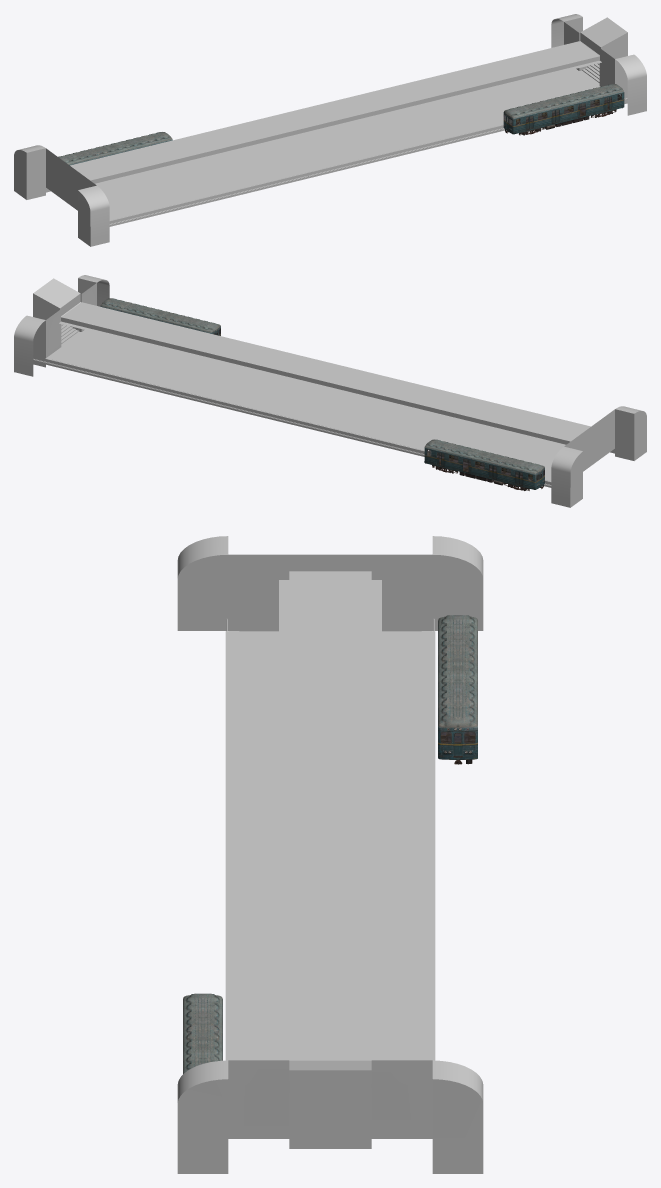
File: pausechamp.fbx
3 views of the same model, one above another, from view 1: azimuth 30°, elevation 25°; view 2: azimuth 150°, elevation 25°; view 3: azimuth 270°, elevation 25° (orthographic). The views are drawn at different scales.
Parts seen in each view (by area): view 1: Платформа, Конечные стены, train_01, train_01.001; view 2: Платформа, Конечные стены, train_01.001, train_01; view 3: Платформа, Конечные стены, train_01.001, train_01.
Boxes of the visible parts, box(x1,y1,x2,y2) form: Платформа: box(46, 41, 627, 226); Конечные стены: box(14, 14, 646, 246); train_01: box(503, 84, 624, 135); train_01.001: box(58, 132, 172, 165); Платформа: box(33, 302, 614, 487); Конечные стены: box(14, 275, 646, 507); train_01.001: box(424, 439, 544, 490); train_01: box(100, 298, 220, 335); Платформа: box(225, 571, 435, 1060); Конечные стены: box(177, 536, 483, 1173); train_01.001: box(438, 615, 477, 764); train_01: box(183, 993, 222, 1073).
Size of the model in its own units: 20471 by 1942 by 4795.
